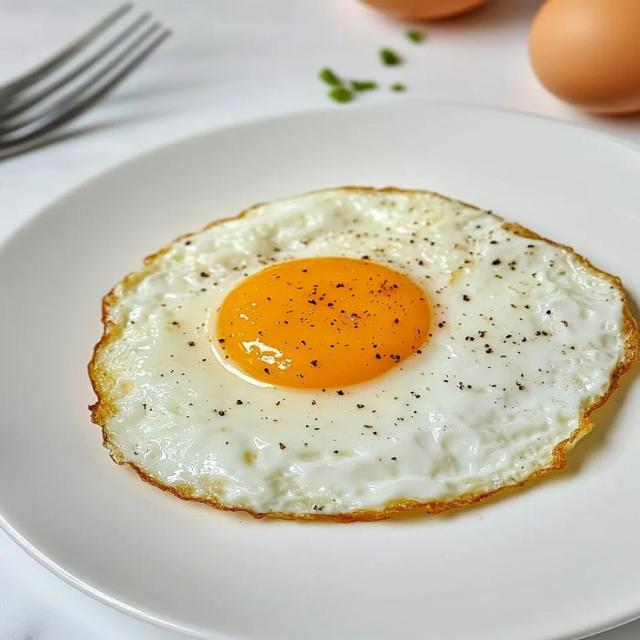fryed egg: (90, 189, 637, 520)
